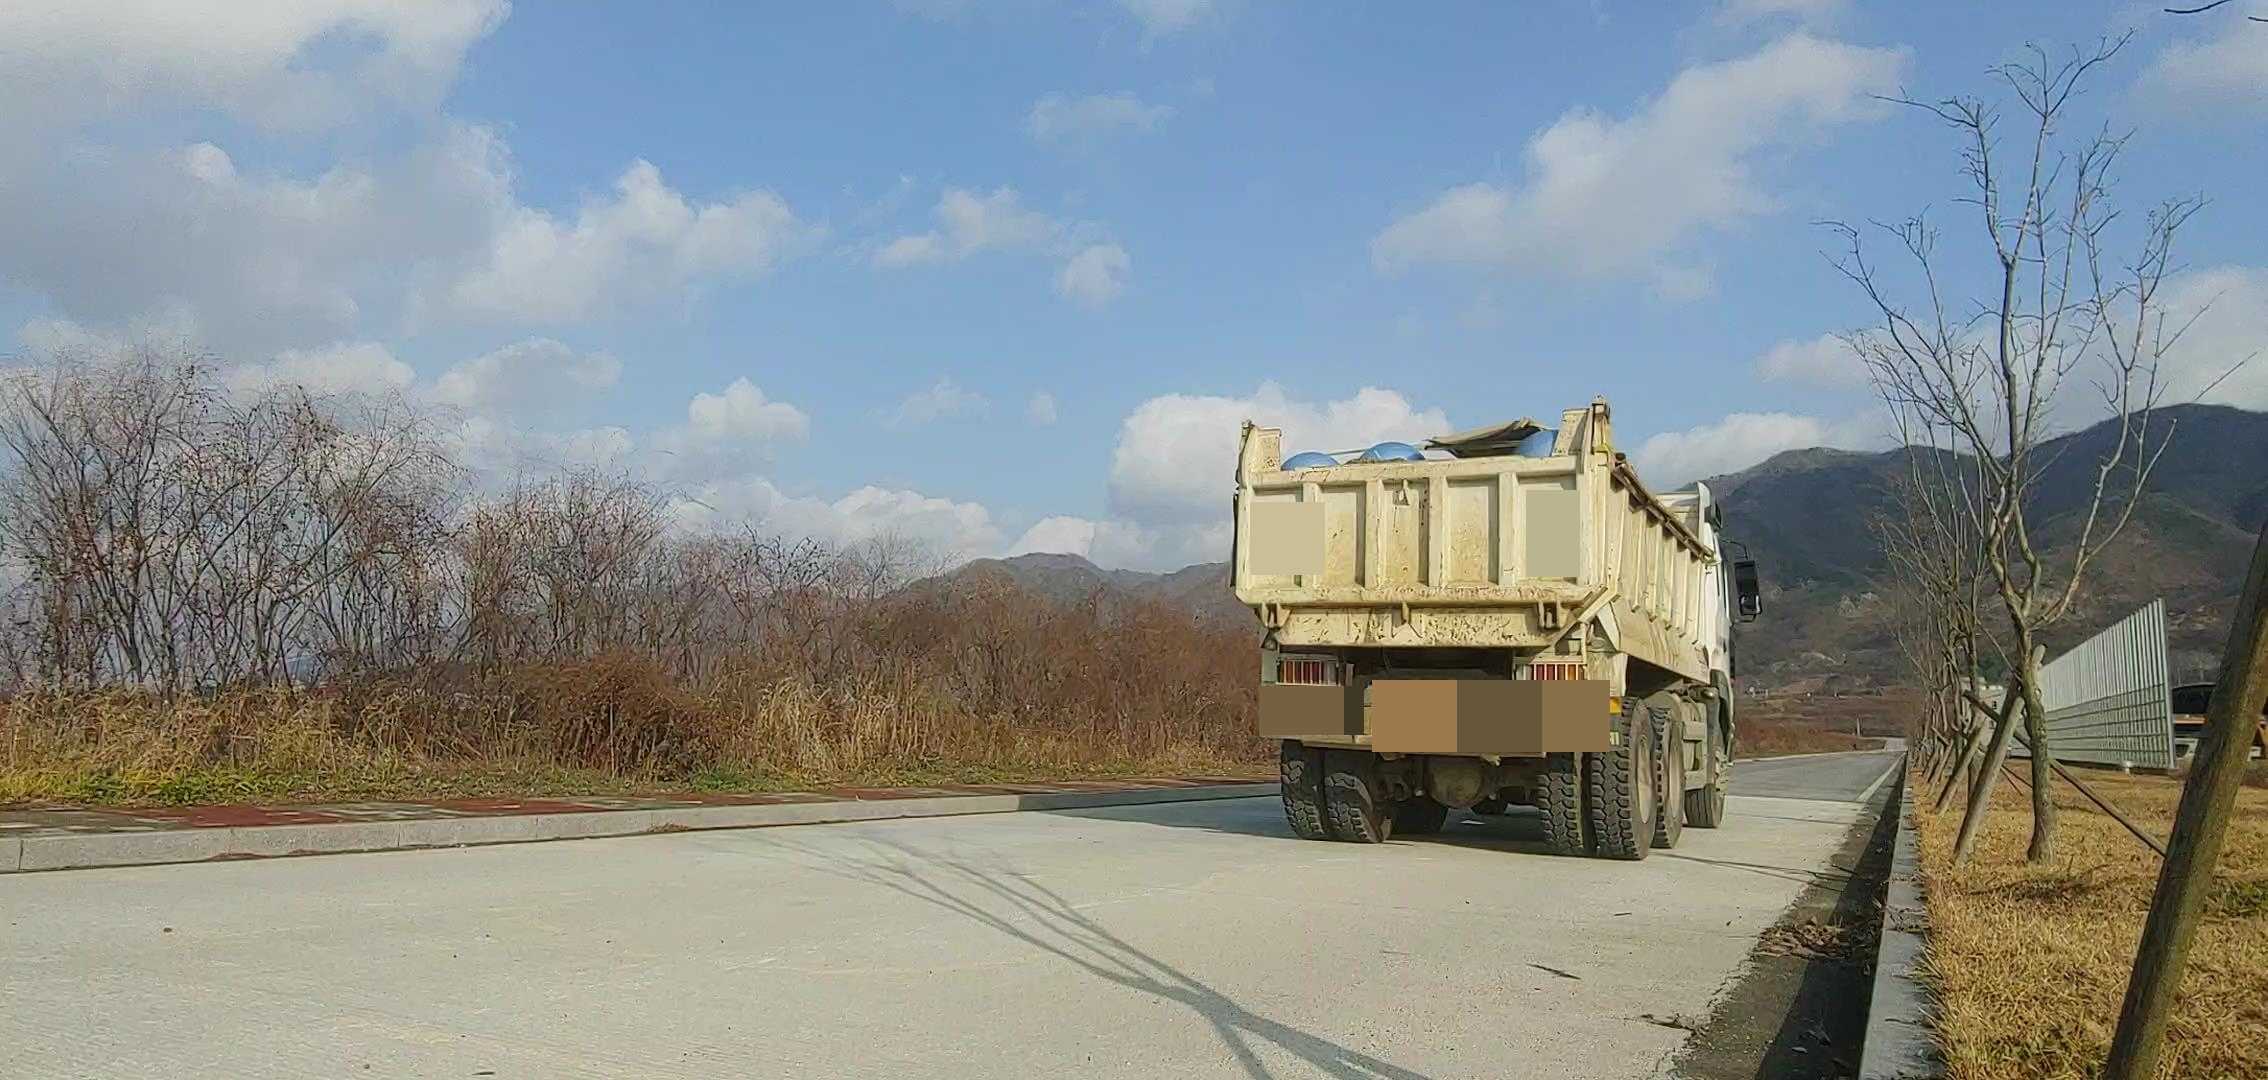불법차량: (1229, 394, 1763, 861)
